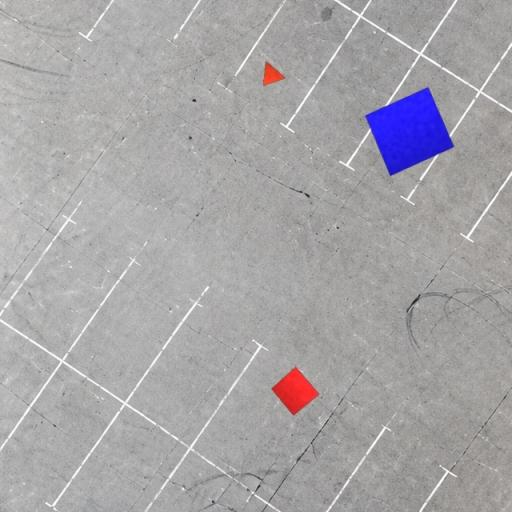BLUE_SQUARE: (365, 87, 455, 177)
RED_SQUARE: (270, 366, 320, 417)
